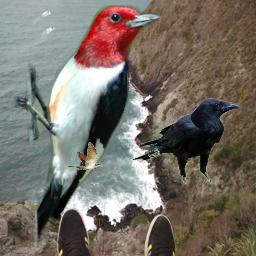Crow: (132, 98, 242, 184)
Cuckoo: (62, 142, 102, 170)
Woodpecker: (11, 5, 166, 250)
